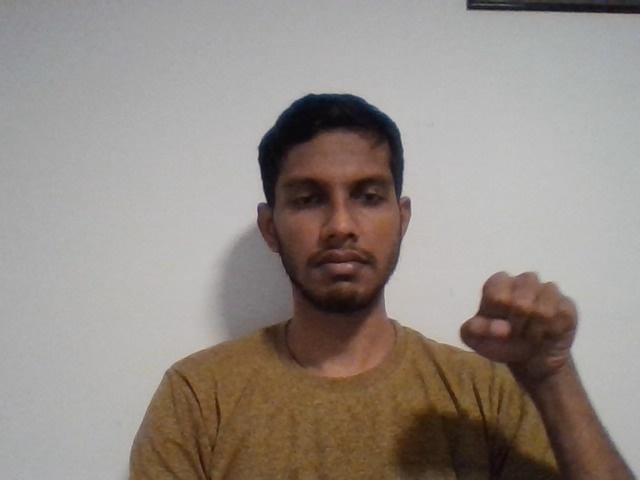yes: (421, 261, 617, 399)
